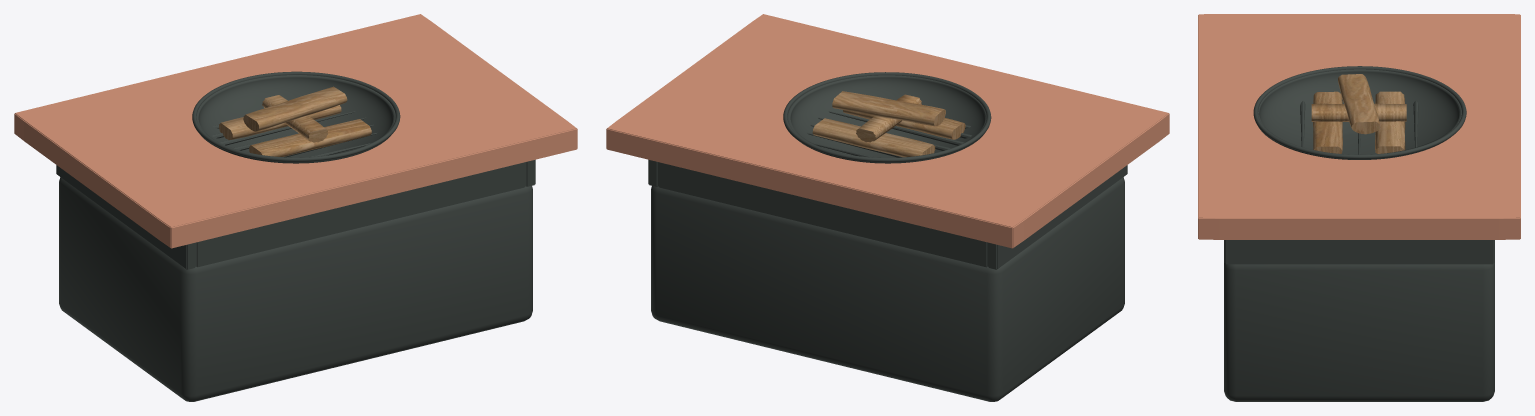
The model's file is patio-fire-table.glb.
3 views of the same model, side by side, from view 1: azimuth 30°, elevation 25°; view 2: azimuth 150°, elevation 25°; view 3: azimuth 270°, elevation 25° (orthographic). The views are drawn at different scales.
Visible parts, largest first — view 1: catalog_surface_RealismUV; view 2: catalog_surface_RealismUV; view 3: catalog_surface_RealismUV.
Part boxes in pixels (x1,y1,x2,y2): catalog_surface_RealismUV: (14,14,577,401); catalog_surface_RealismUV: (606,14,1169,401); catalog_surface_RealismUV: (1198,14,1520,401).
Size of the model in its own units: 1.2 by 0.6 by 0.8.
Materials: 3 (1 with a texture image).
